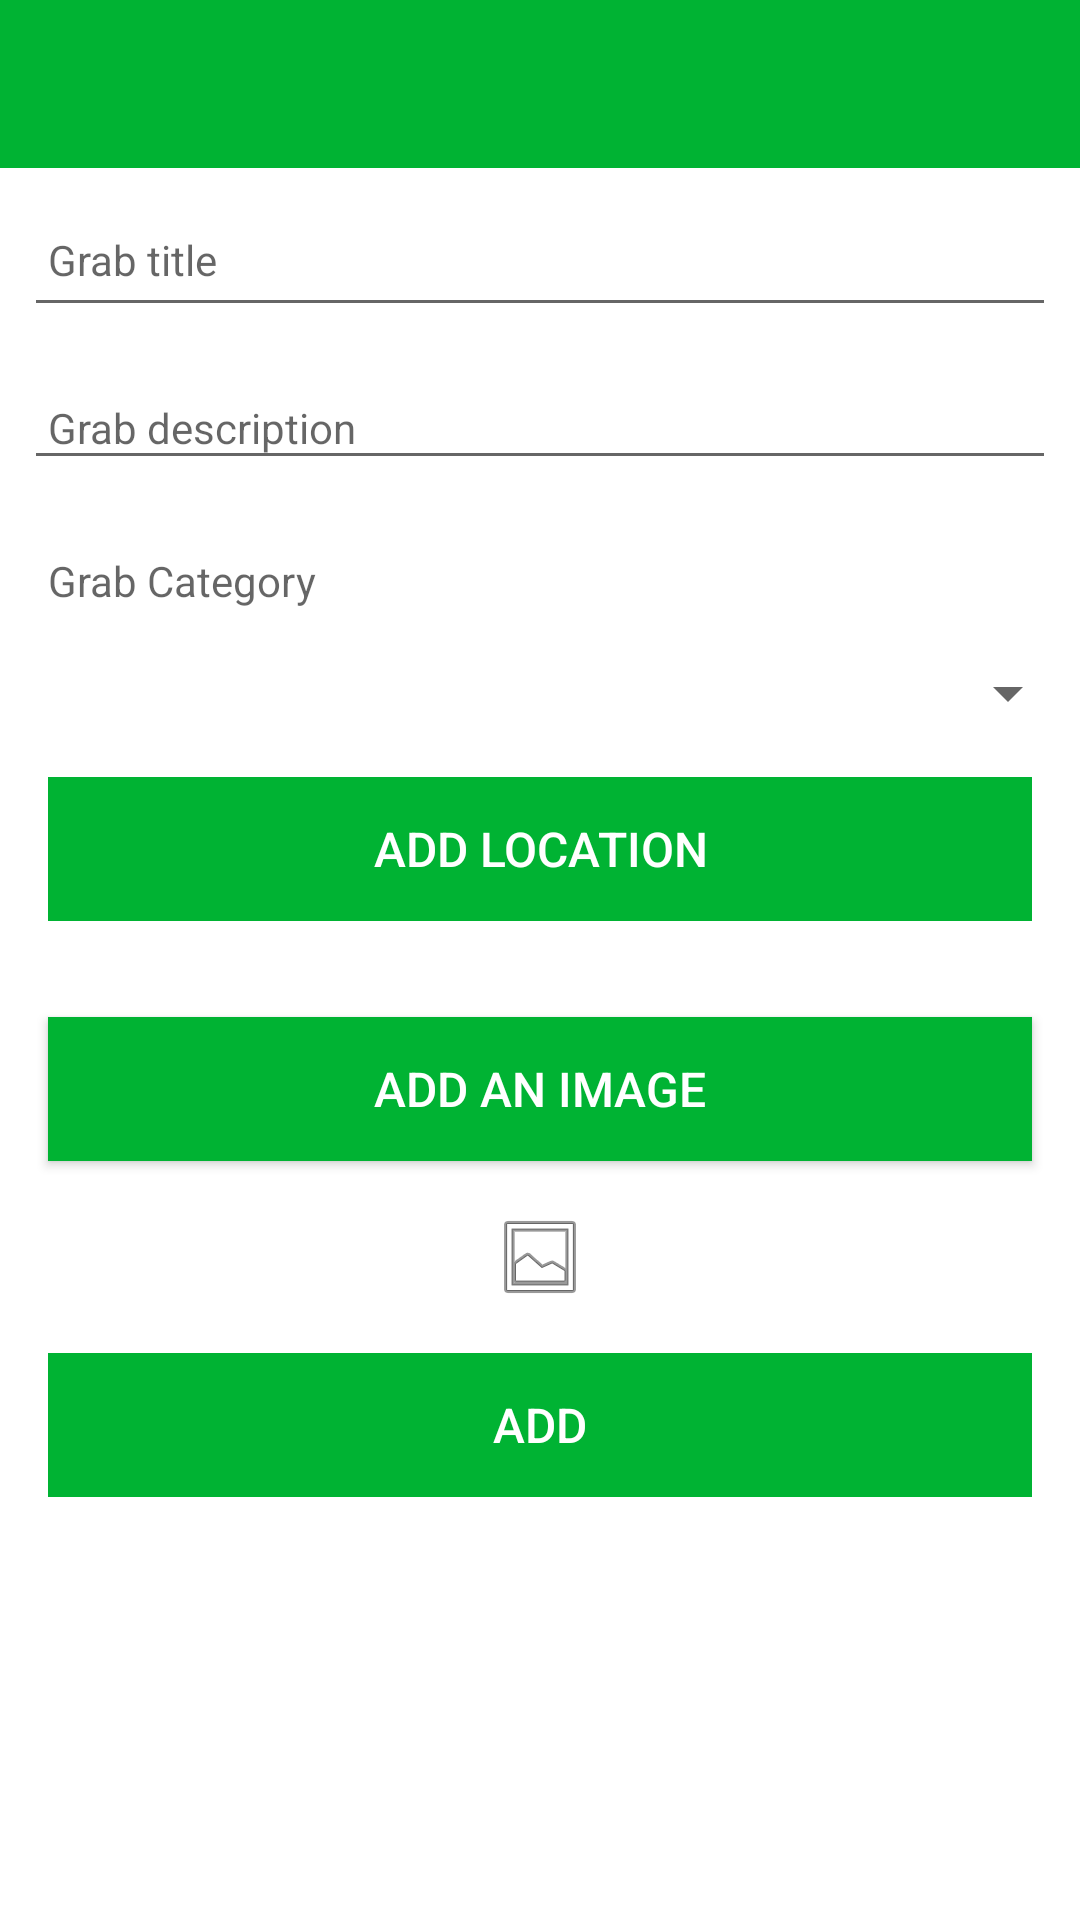

Named icons in this screenshot (1080px x 1920px) and their bounding boxes, (x1, y1, x2, y2):
gallery: (504, 1221, 576, 1293)
